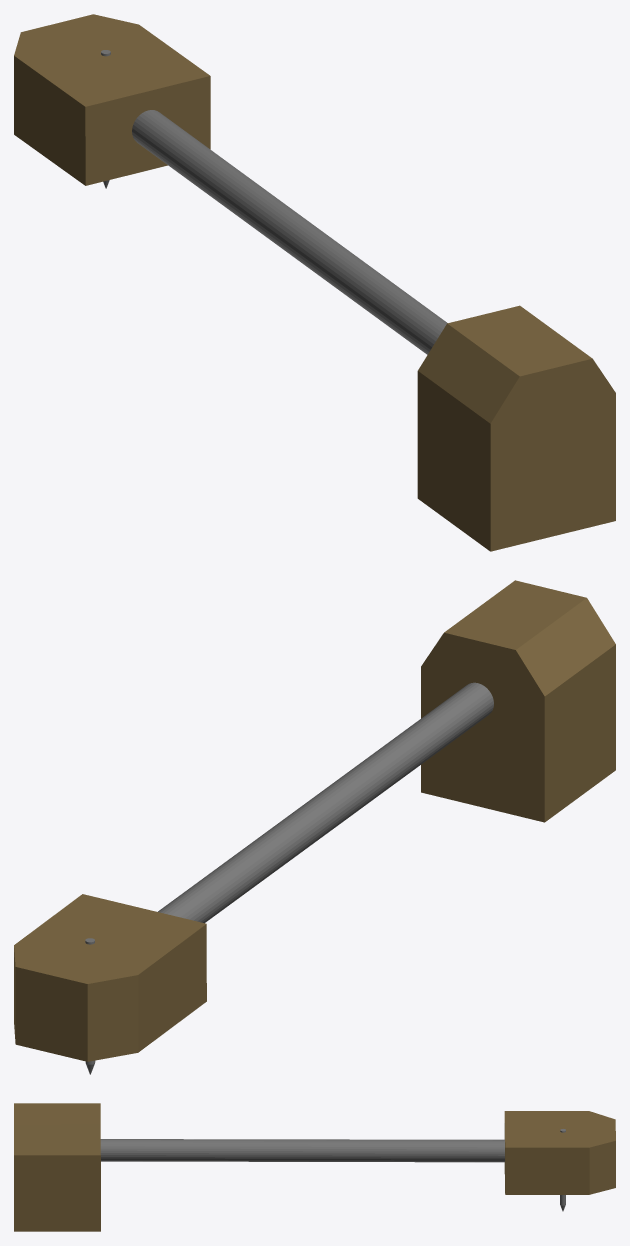
The model's file is jarum.fbx.
3 renders of one model, top to bottom at view 1: azimuth 30°, elevation 25°; view 2: azimuth 150°, elevation 25°; view 3: azimuth 270°, elevation 25°, orthographic. The views are drawn at different scales.
Visible parts, largest first — view 1: Cube.003, Cube.004, Cylinder; view 2: Cube.003, Cube.004, Cylinder; view 3: Cube.003, Cylinder, Cube.004.
Part boxes in pixels (<box>): Cube.003: <box>417,305,615,551</box>; Cube.004: <box>14,14,210,185</box>; Cylinder: <box>132,110,447,354</box>; Cube.003: <box>421,580,615,822</box>; Cube.004: <box>14,894,206,1061</box>; Cylinder: <box>158,682,493,923</box>; Cube.003: <box>14,1103,100,1231</box>; Cylinder: <box>100,1139,504,1162</box>; Cube.004: <box>504,1111,615,1194</box>.
Bounding box in the file's own units: 21.42 × 26.24 × 143.
